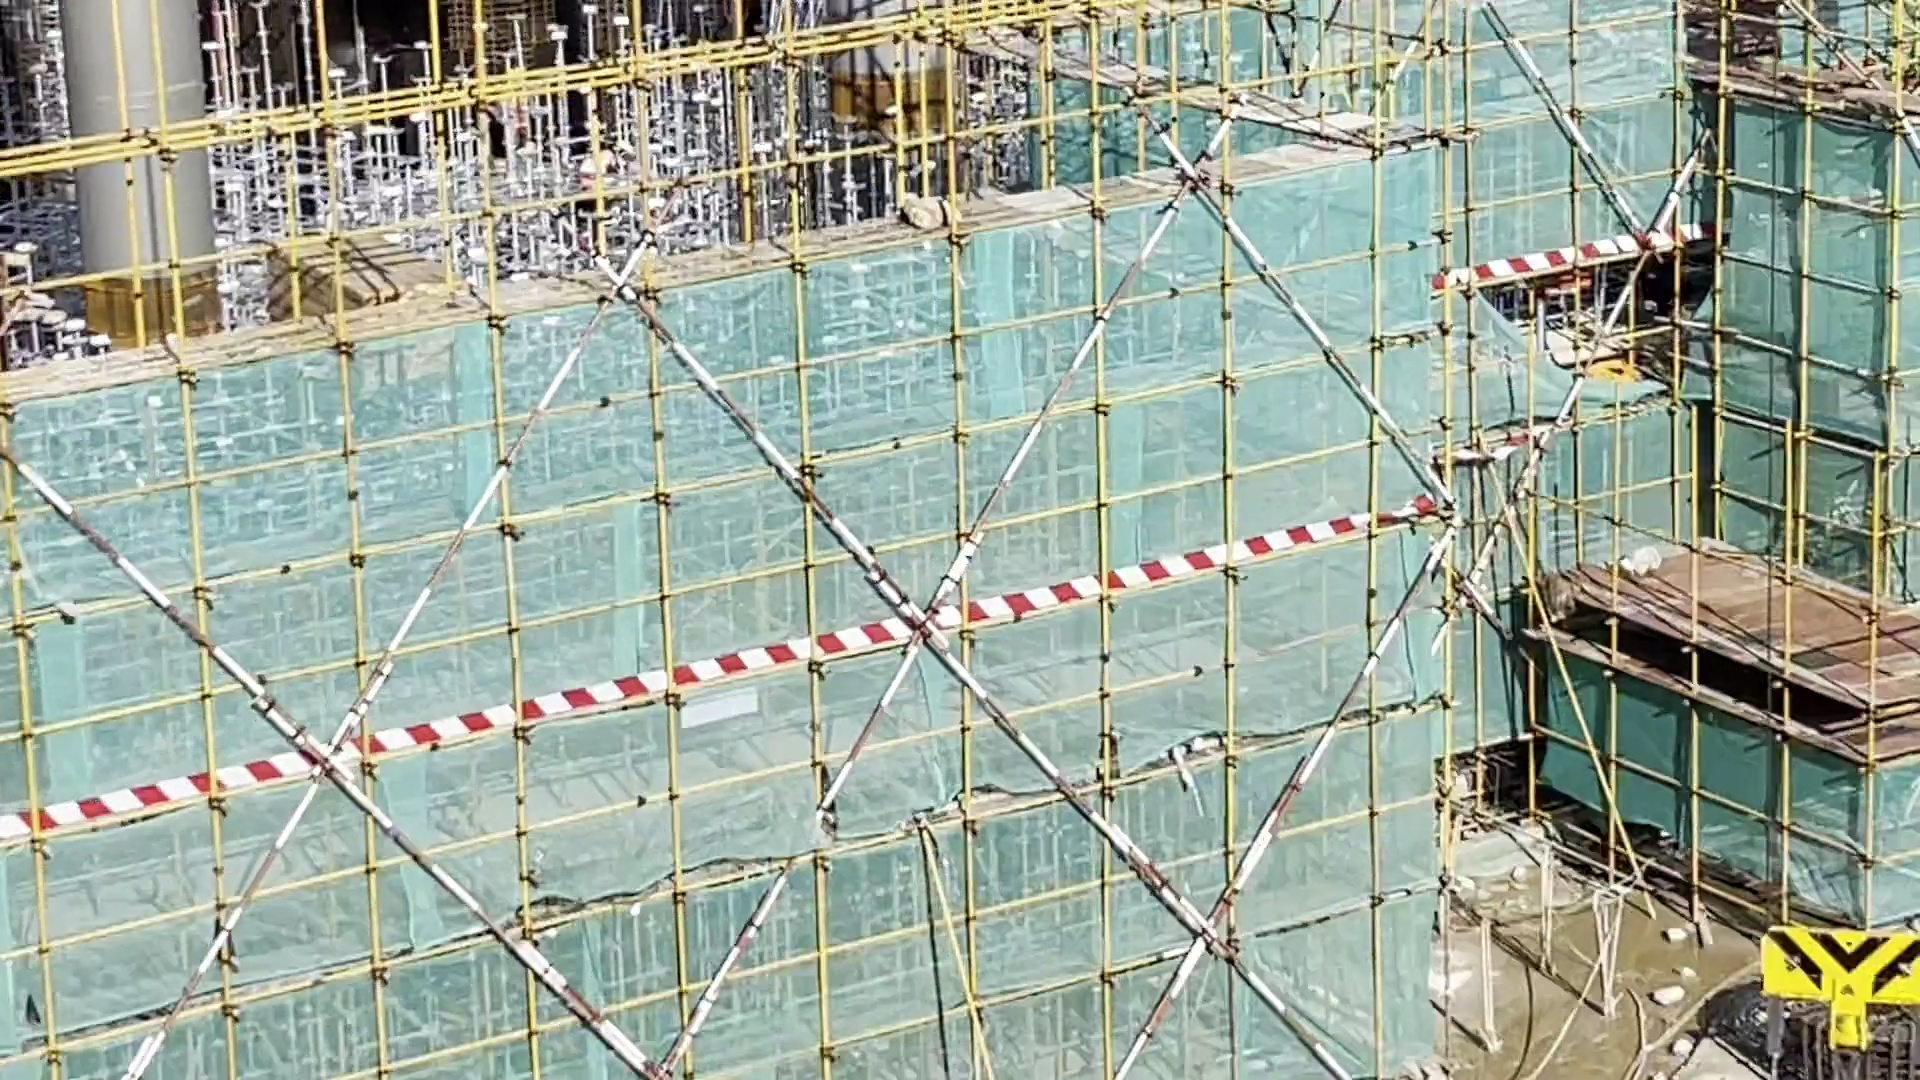hook: (1722, 890, 1920, 1043)
